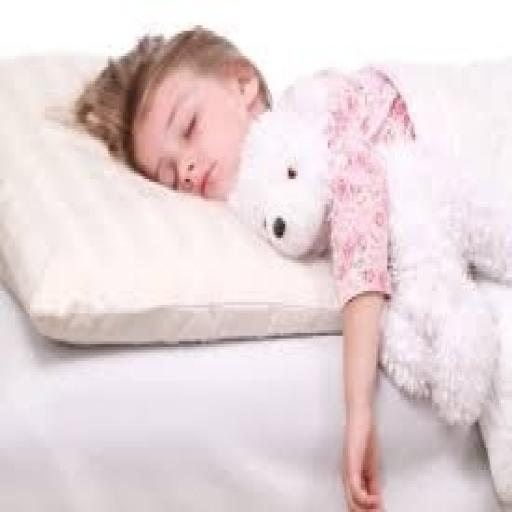sleeping: (69, 22, 510, 510)
